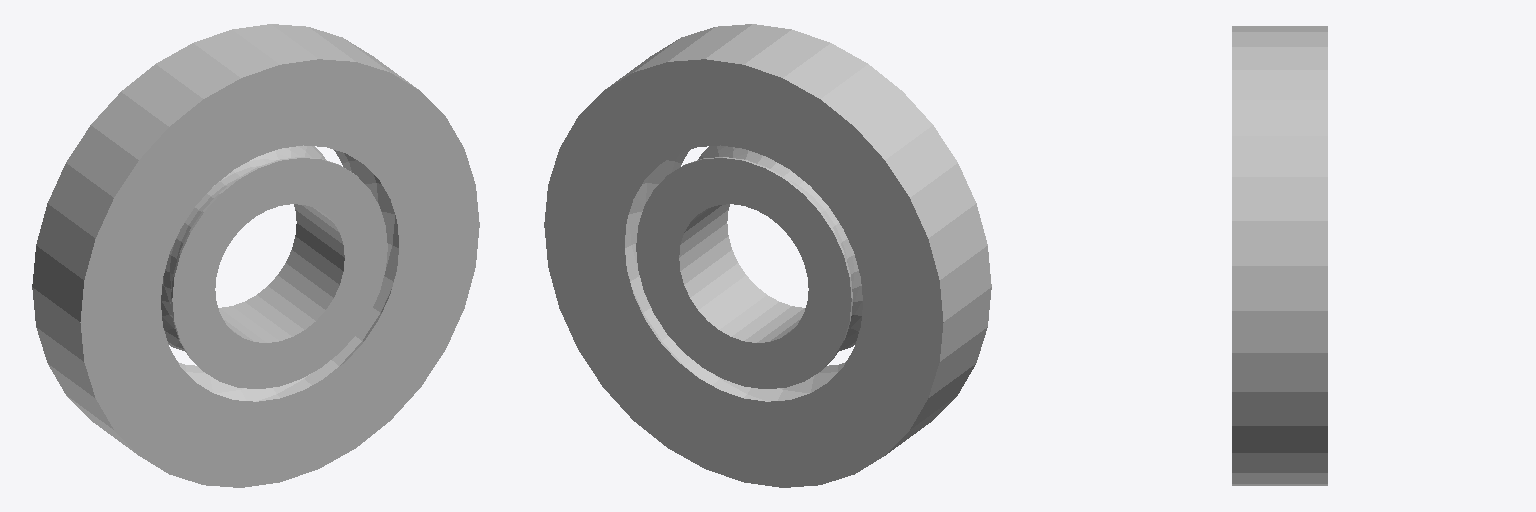
The model's file is bearing.obj.
3 views of the same model, side by side, from view 1: azimuth 30°, elevation 25°; view 2: azimuth 150°, elevation 25°; view 3: azimuth 270°, elevation 25° (orthographic).
Parts seen in each view (by area): view 1: obj_0; view 2: obj_0; view 3: obj_0.
Boxes of the visible parts, box(x1,y1,x2,y2) form: obj_0: box(32, 24, 479, 487); obj_0: box(544, 24, 991, 487); obj_0: box(1232, 26, 1327, 485).
Bounding box in the file's own units: 26.4 × 26.4 × 5.52.